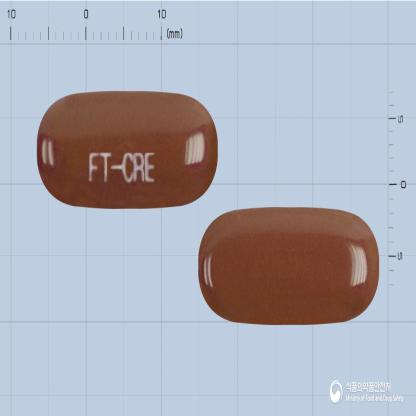pill: (36, 89, 218, 210), (198, 208, 380, 326)
